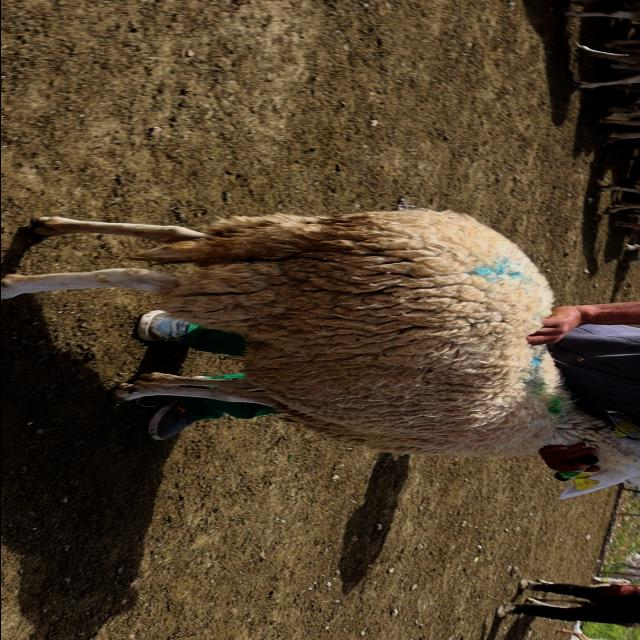Score_2: (1, 207, 640, 499)
